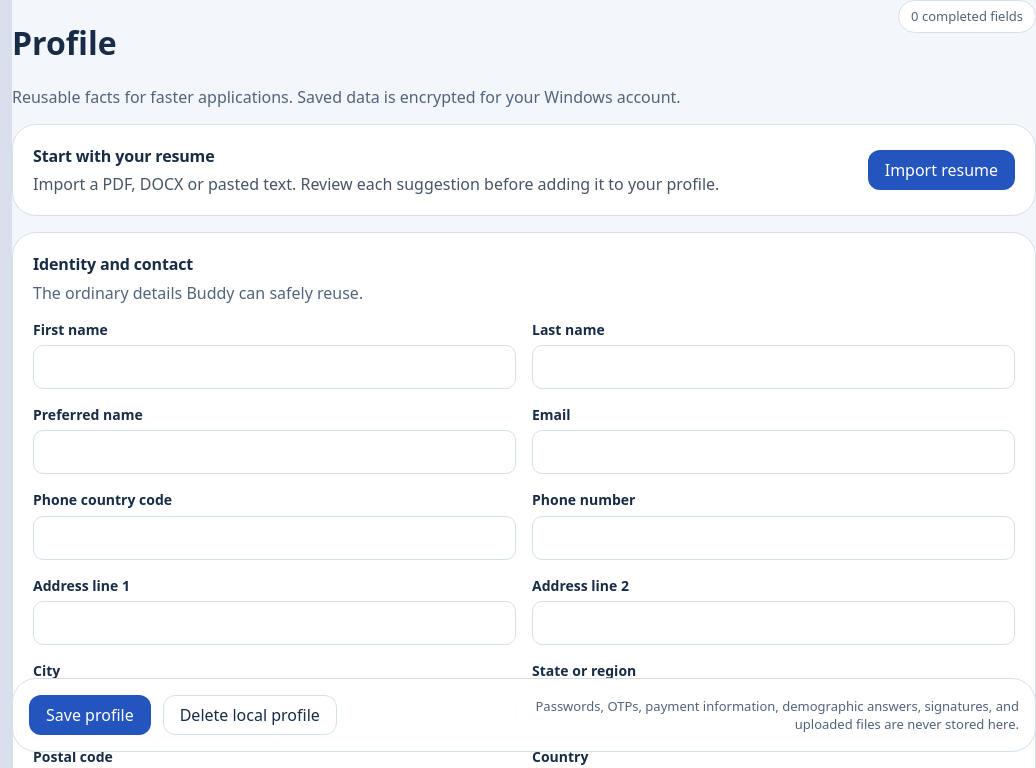
Test case: ProfilePage › names the invalid field at Save and retains the imported draft
The width and height of the screenshot is (1036, 768).
Type "invalid-email" into the field labelled "Email" at [774, 452], box [532,430,1015,474]
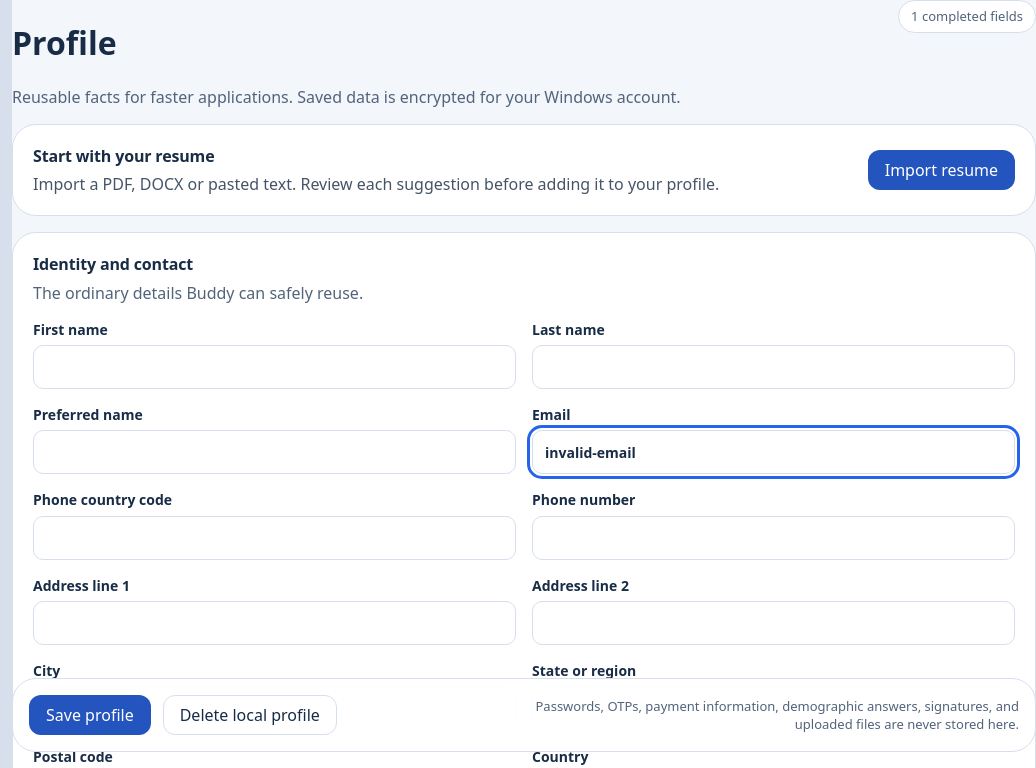
Click the button "Save profile" at [90, 715], box [29,695,151,735]
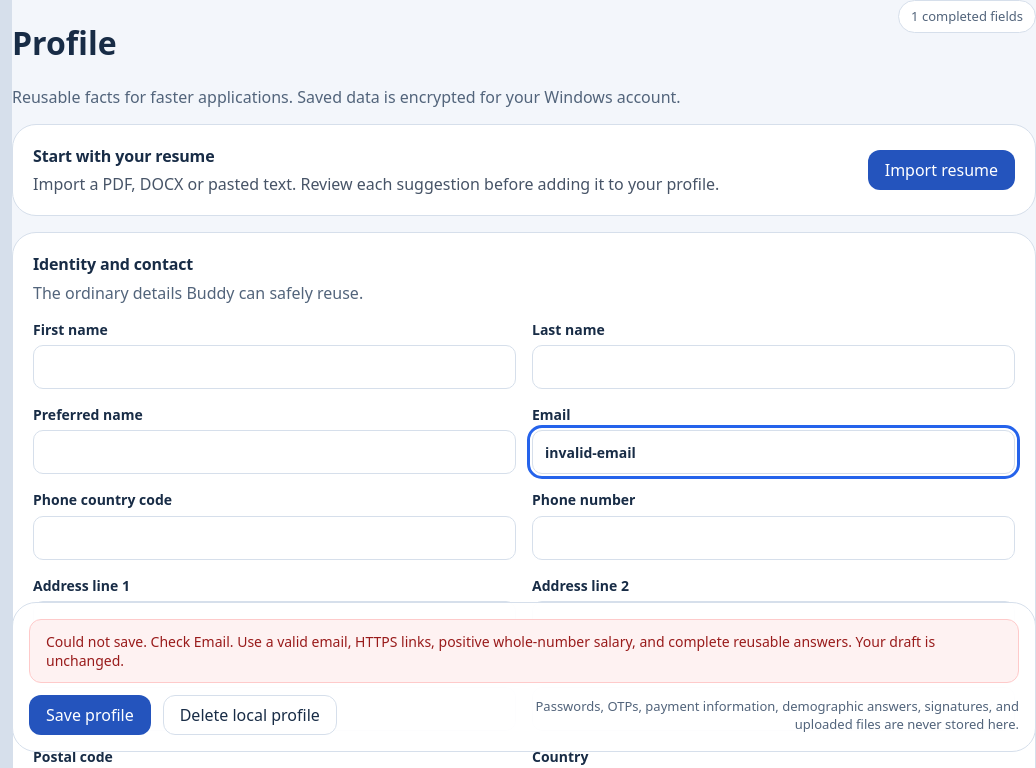
Result: the message shows "Email" at [46,632,935,670]
